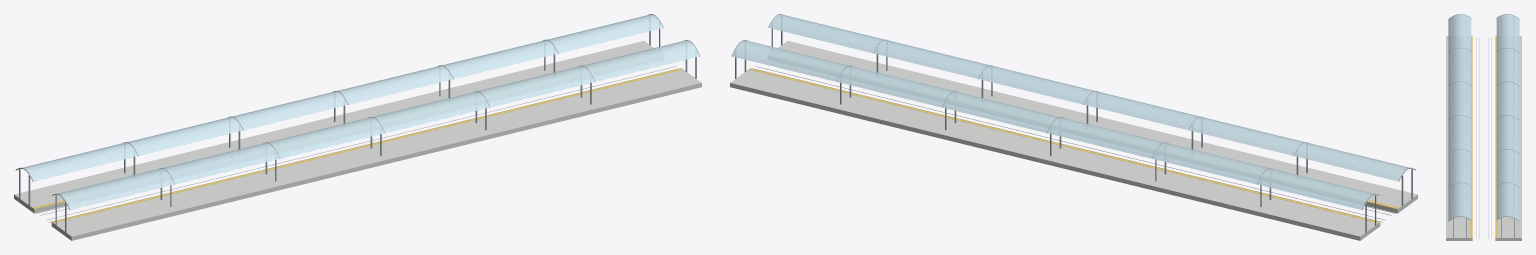
The model's file is RAIL03_hlod.glb.
3 views of the same model, side by side, from view 1: azimuth 30°, elevation 25°; view 2: azimuth 150°, elevation 25°; view 3: azimuth 270°, elevation 25° (orthographic). The views are drawn at different scales.
Visible parts, largest first — view 1: Structure_M00_concrete, Roof_M00_glass, Roof_M04_glass, Roof_M01_glass, Roof_M03_glass, Roof_M02_glass, Roof_M05_glass, Structure_M02_concrete, Structure_M01_concrete, Structure_M04_concrete, Structure_M05_concrete, Structure_M03_concrete (+1 smaller); view 2: Structure_M00_concrete, Roof_M01_glass, Roof_M00_glass, Roof_M03_glass, Roof_M04_glass, Roof_M05_glass, Roof_M02_glass, Structure_M01_concrete, Structure_M02_concrete, Structure_M04_concrete, Structure_M05_concrete, Structure_M03_concrete (+1 smaller); view 3: Roof_M02_glass, Roof_M05_glass, Roof_M00_glass, Roof_M03_glass, Roof_M04_glass, Roof_M01_glass, Structure_M05_concrete, Structure_M01_concrete, Structure_M04_concrete, Structure_M00_concrete, Structure_M02_concrete, Structure_M03_concrete (+16 smaller).
Part boxes in pixels (x1,y1,x2,y2): Structure_M00_concrete: (14,169,176,240); Roof_M00_glass: (17,142,174,209); Roof_M04_glass: (443,40,594,107); Roof_M01_glass: (127,117,279,184); Roof_M03_glass: (337,65,489,132); Roof_M02_glass: (232,91,384,158); Roof_M05_glass: (548,14,699,81); Structure_M02_concrete: (224,117,386,189); Structure_M01_concrete: (119,143,281,215); Structure_M04_concrete: (434,66,596,138); Structure_M05_concrete: (539,41,701,112); Structure_M03_concrete: (329,92,491,163); Structure_M00_concrete: (1255,169,1417,240); Roof_M01_glass: (1152,117,1304,184); Roof_M00_glass: (1257,142,1414,209); Roof_M03_glass: (942,65,1094,132); Roof_M04_glass: (837,40,989,107); Roof_M05_glass: (732,14,884,81); Roof_M02_glass: (1047,91,1199,158); Structure_M01_concrete: (1150,143,1312,215); Structure_M02_concrete: (1045,117,1207,189); Structure_M04_concrete: (835,66,997,138); Structure_M05_concrete: (730,41,892,112); Structure_M03_concrete: (940,92,1102,163); Roof_M02_glass: (1448,81,1519,119); Roof_M05_glass: (1448,182,1519,220); Roof_M00_glass: (1448,14,1519,52); Roof_M03_glass: (1448,115,1519,153); Roof_M04_glass: (1448,149,1519,186); Roof_M01_glass: (1448,48,1519,85); Structure_M05_concrete: (1446,204,1521,240); Structure_M01_concrete: (1446,69,1521,103); Structure_M04_concrete: (1446,170,1521,204); Structure_M00_concrete: (1446,36,1521,69); Structure_M02_concrete: (1446,103,1521,136); Structure_M03_concrete: (1446,137,1521,170).
Size of the model in its own units: 180 by 10.26 by 28.5.
